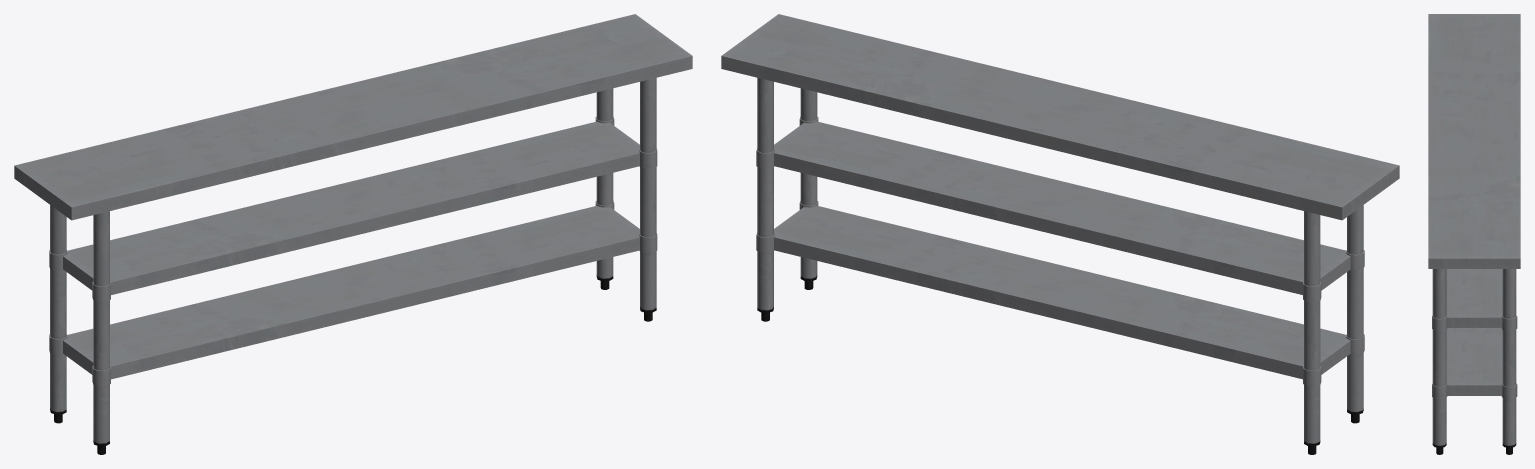
File: SM_Stainless_Freestanding_Shelf_01.glb
3 renders of one model, left to right at view 1: azimuth 30°, elevation 25°; view 2: azimuth 150°, elevation 25°; view 3: azimuth 270°, elevation 25°, orthographic. The views are drawn at different scales.
Parts seen in each view (by area): view 1: SM_Stainless_Freestanding_Shelf_01; view 2: SM_Stainless_Freestanding_Shelf_01; view 3: SM_Stainless_Freestanding_Shelf_01.
Part boxes in pixels (x1=…): SM_Stainless_Freestanding_Shelf_01: x1=14, y1=14, x2=692, y2=454; SM_Stainless_Freestanding_Shelf_01: x1=721, y1=14, x2=1399, y2=454; SM_Stainless_Freestanding_Shelf_01: x1=1428, y1=14, x2=1520, y2=454.
Size of the model in its own units: 2.5 by 1 by 0.3995.
Materials: 1 (1 with a texture image).
